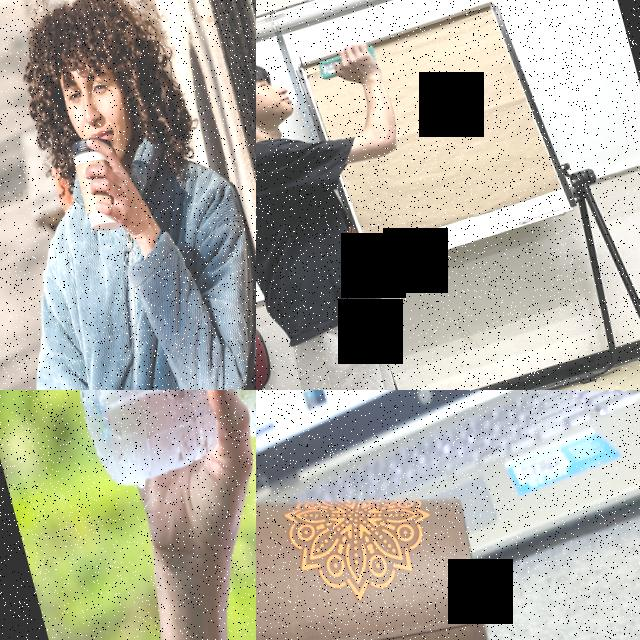bottle: (70, 390, 256, 494)
cup: (256, 429, 524, 640), (64, 130, 134, 237)
